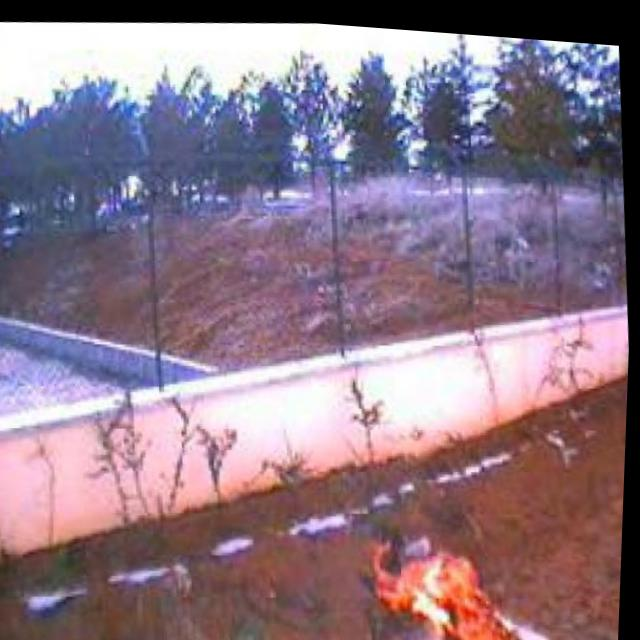Fire: (368, 521, 533, 640)
